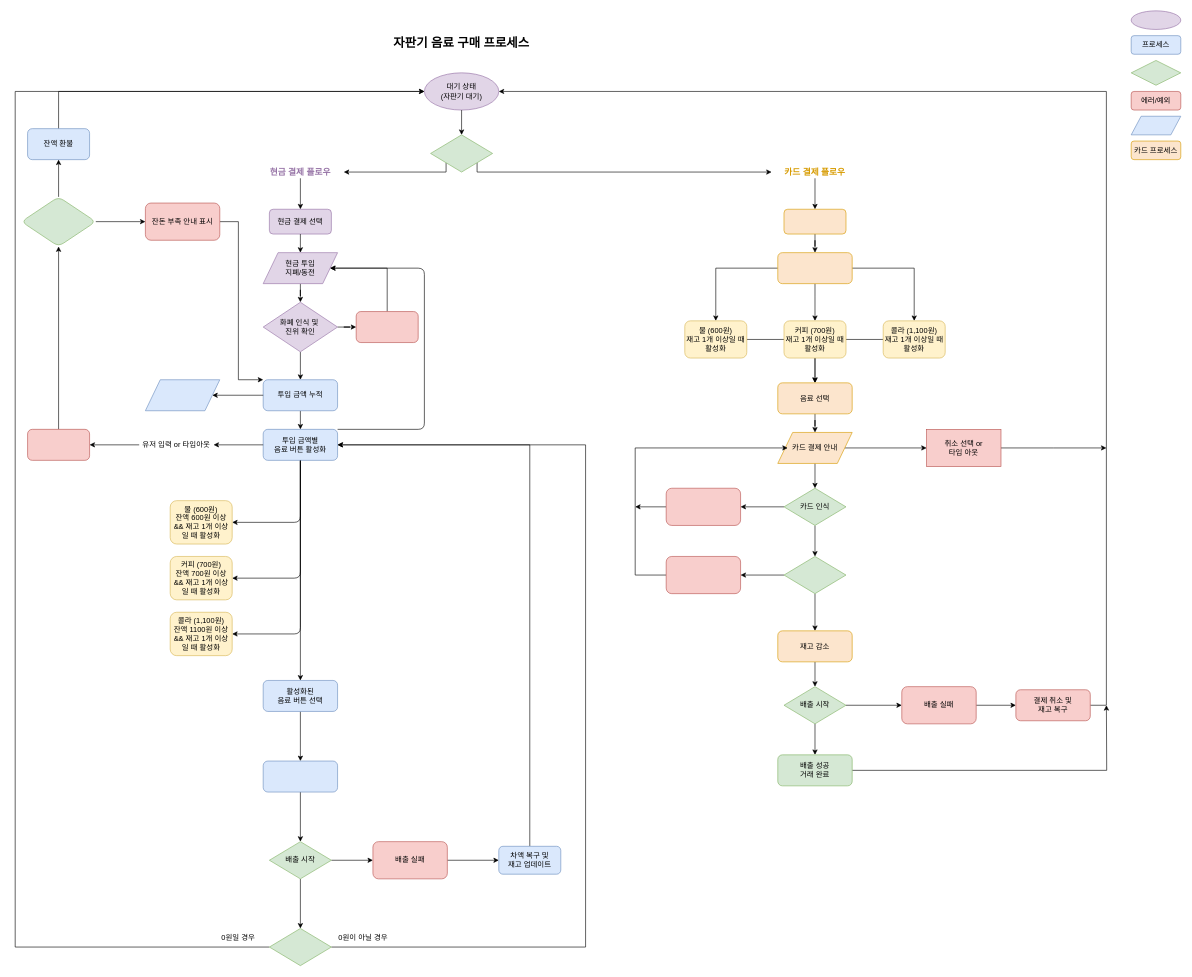
The diagram is 1192 pixels wide and 977 high, and some of its shapes have lost their labels. The shapes that lost their labels are listed below. From the top down, each one's centre as x and y in pixels, then its label:
point (1156, 19): 시작/종료
point (1156, 72): 결정
point (1156, 125): 입출력
point (461, 153): 결제 방식 선택
point (58, 221): 거스름돈의 화폐 수 확인
point (814, 221): 카드 결제 선택
point (814, 268): 재고 확인 및 버튼 활성화
point (387, 327): 투입 화폐 반환
point (182, 395): 투입금액 표시 "XXX원 투입됨"
point (58, 444): 반환 버튼
point (703, 506): 카드 인식 실패 안내
point (703, 575): 결제 실패 안내
point (814, 575): 결제 승인
point (300, 776): 잔액 감소 및 재고 감소
point (300, 947): 잔액 확인
